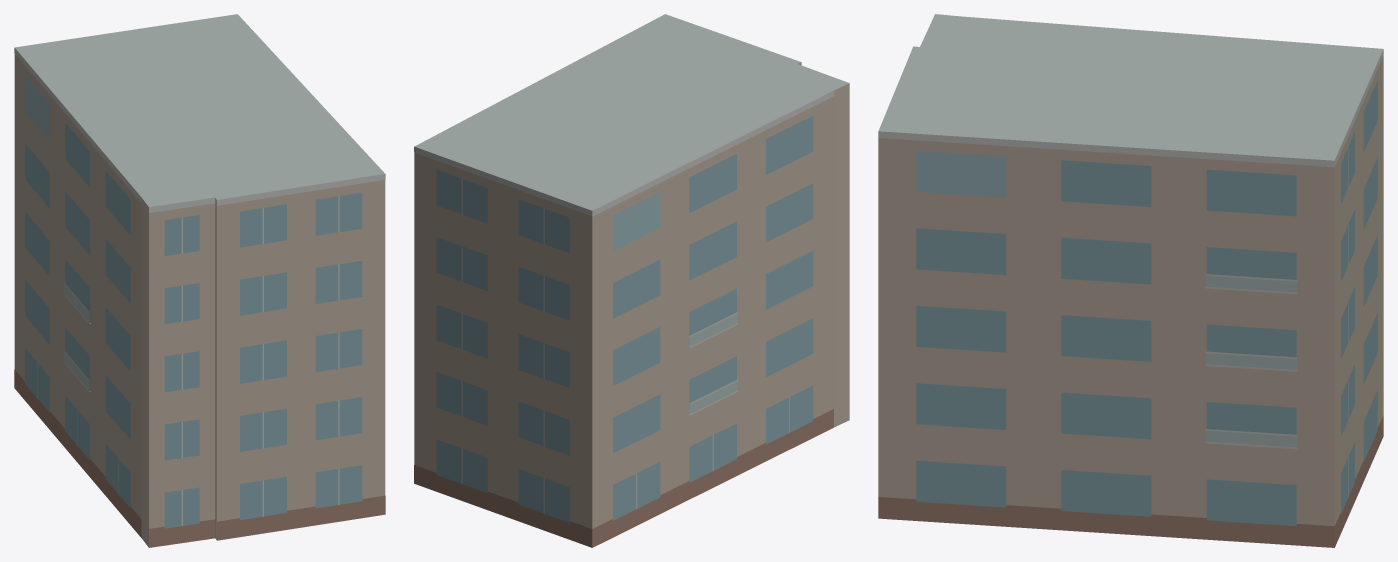
File: survey-upis-32849555.glb
3 views of the same model, side by side, from view 1: azimuth 30°, elevation 25°; view 2: azimuth 150°, elevation 25°; view 3: azimuth 270°, elevation 25° (orthographic). The views are drawn at different scales.
Parts seen in each view (by area): view 1: survey-upis-32849555.tmp; view 2: survey-upis-32849555.tmp; view 3: survey-upis-32849555.tmp.
Boxes of the visible parts, box(x1,y1,x2,y2) form: survey-upis-32849555.tmp: box(14, 14, 385, 547); survey-upis-32849555.tmp: box(414, 14, 849, 547); survey-upis-32849555.tmp: box(878, 14, 1383, 547).
Bounding box in the file's own units: 11.46 × 14.1 × 16.69.
